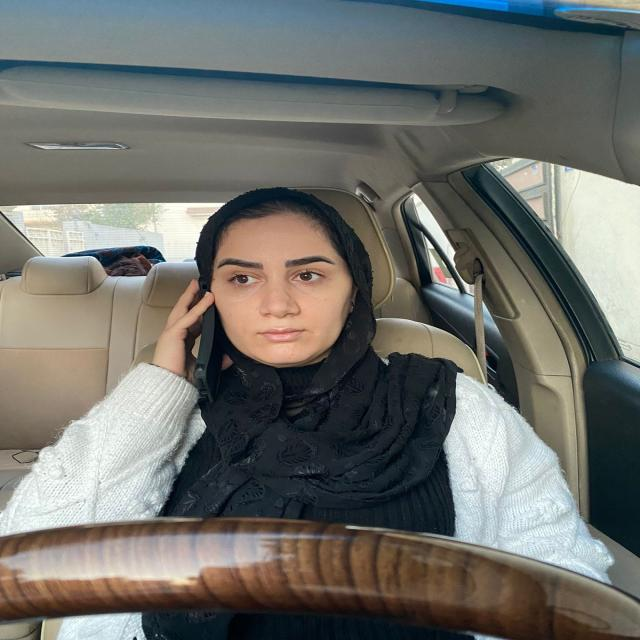phone: (183, 279, 223, 403)
